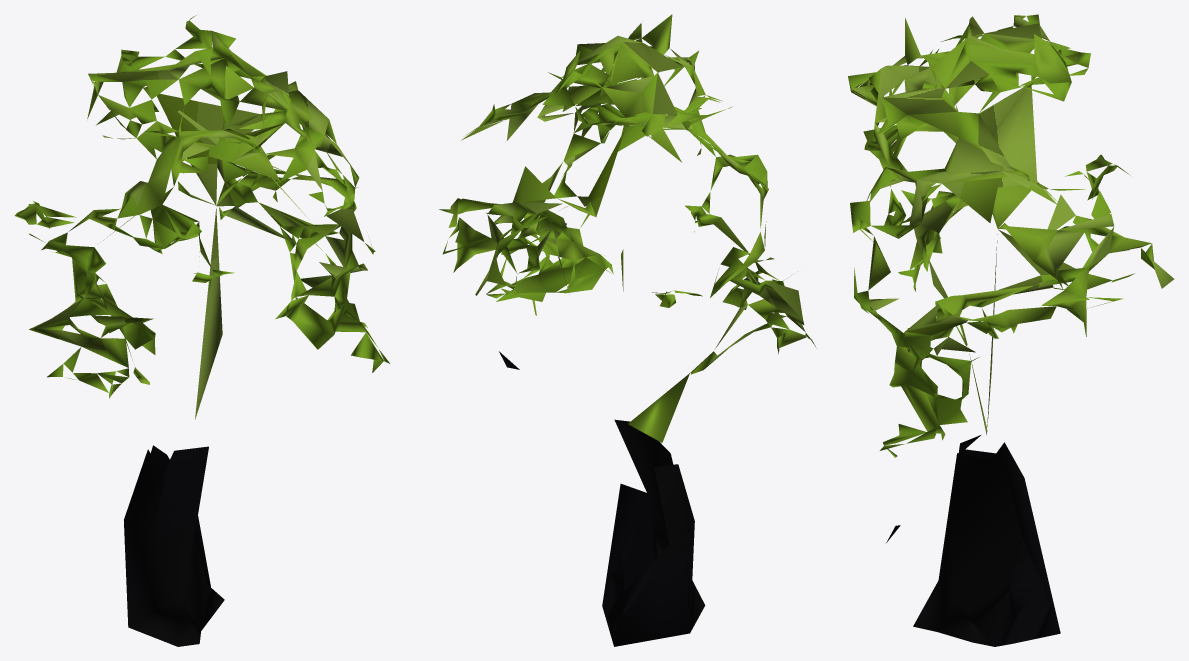
Rendered from tree_birch_shadow.glb.
The picture shows the model from 3 angles, left to right: view 1: azimuth 30°, elevation 25°; view 2: azimuth 150°, elevation 25°; view 3: azimuth 270°, elevation 25°; orthographic projection. The views are drawn at different scales.
Visible parts, largest first — view 1: plant; view 2: plant; view 3: plant.
Part boxes in pixels (x1,y1,x2,y2): plant: (14,15,389,646); plant: (439,14,816,646); plant: (848,14,1174,646).
Bounding box in the file's own units: 3.1 × 4.94 × 2.34.
1 material, 1 textured.
